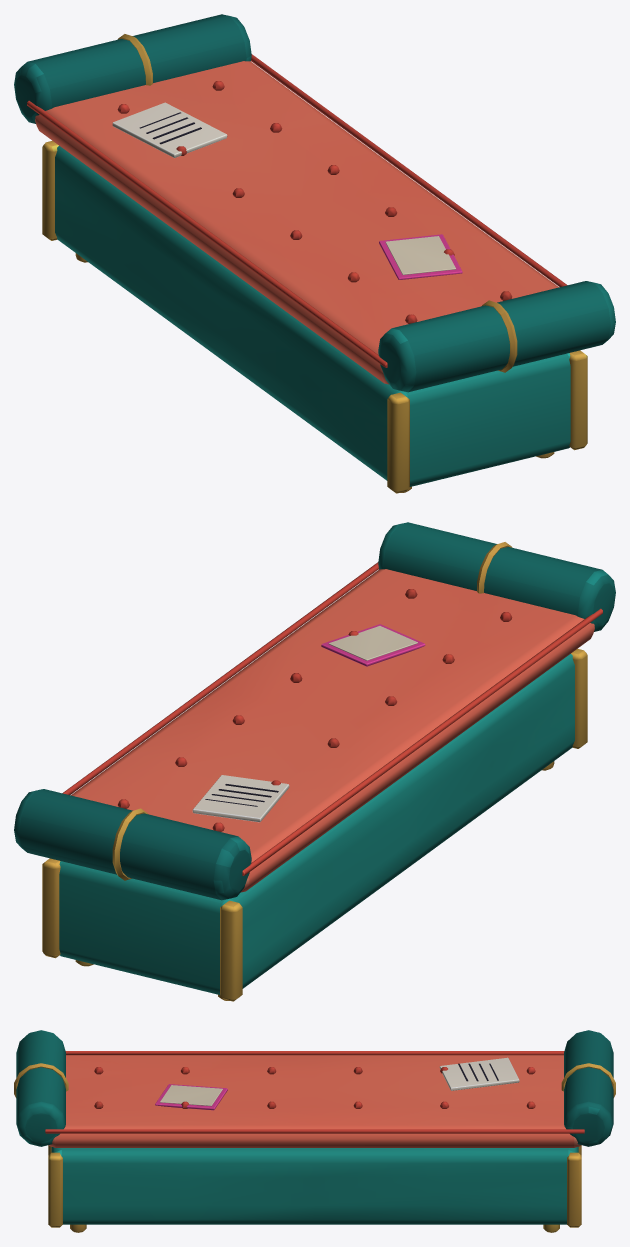
File: SM_Lobby_WaitingBench.fbx
3 renders of one model, top to bottom at view 1: azimuth 30°, elevation 25°; view 2: azimuth 150°, elevation 25°; view 3: azimuth 270°, elevation 25°, orthographic. The views are drawn at different scales.
Parts seen in each view (by area): view 1: SM_Lobby_WaitingBench; view 2: SM_Lobby_WaitingBench; view 3: SM_Lobby_WaitingBench.
Boxes of the visible parts, box(x1,y1,x2,y2) form: SM_Lobby_WaitingBench: box(14, 14, 615, 493); SM_Lobby_WaitingBench: box(14, 522, 615, 1001); SM_Lobby_WaitingBench: box(14, 1030, 615, 1232).
Bounding box in the file's own units: 92.06 × 75.61 × 292.
